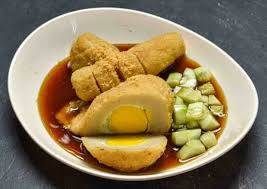Pempek kapal selam: (69, 72, 177, 173)
Pempek lenjer: (71, 26, 187, 101)
